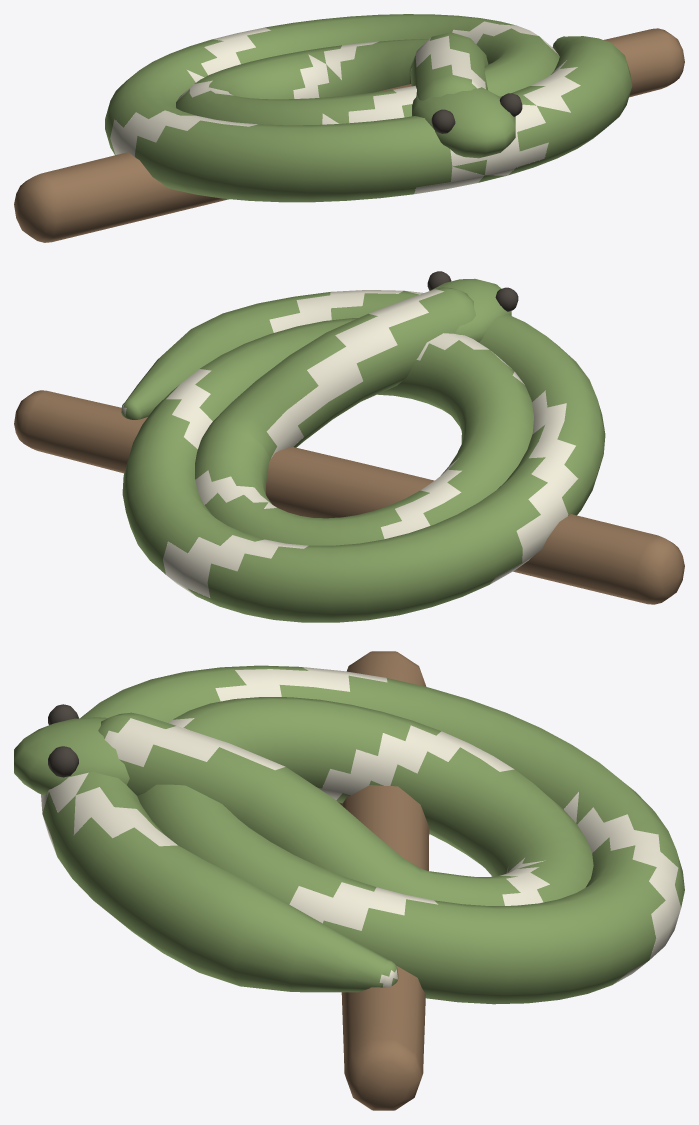
The model's file is rainforest-and-jungle-fauna-emerald-tree-boa-on-branch-631da332__21691.glb.
The picture shows the model from 3 angles, top to bottom: view 1: azimuth 30°, elevation 25°; view 2: azimuth 150°, elevation 25°; view 3: azimuth 270°, elevation 25°; orthographic projection. The views are drawn at different scales.
Visible parts, largest first — view 1: emerald-tree-boa-on-branch; view 2: emerald-tree-boa-on-branch; view 3: emerald-tree-boa-on-branch.
Part boxes in pixels (<box>): emerald-tree-boa-on-branch: <box>14,14,684,242</box>; emerald-tree-boa-on-branch: <box>14,271,684,622</box>; emerald-tree-boa-on-branch: <box>14,651,684,1110</box>.
Size of the model in its own units: 1.02 by 0.2552 by 0.7.
